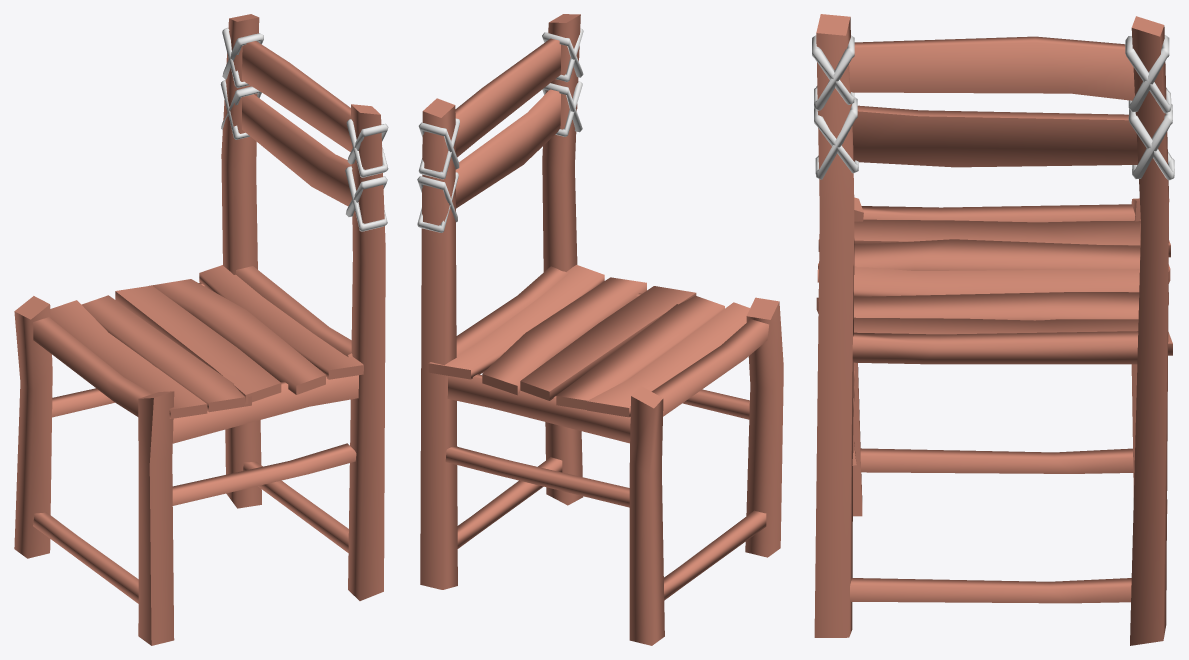
Rendered from chair_d.fbx.
3 views of the same model, side by side, from view 1: azimuth 30°, elevation 25°; view 2: azimuth 150°, elevation 25°; view 3: azimuth 270°, elevation 25° (orthographic). The views are drawn at different scales.
Visible parts, largest first — view 1: Cube.197, Cube.198; view 2: Cube.197, Cube.198; view 3: Cube.197, Cube.198.
Part boxes in pixels (bbox=[...]): Cube.197: bbox=[14, 14, 385, 645]; Cube.198: bbox=[220, 27, 388, 231]; Cube.197: bbox=[420, 14, 783, 645]; Cube.198: bbox=[417, 28, 583, 232]; Cube.197: bbox=[814, 14, 1172, 645]; Cube.198: bbox=[812, 35, 1174, 180].
Bounding box in the file's own units: 0.7072 × 1.39 × 0.7424.
